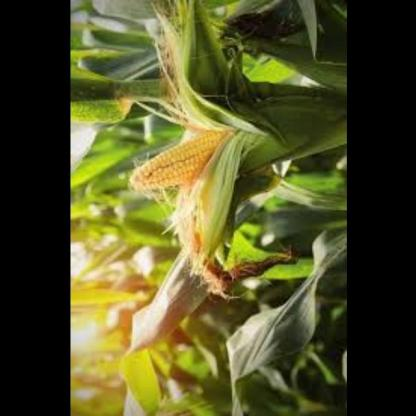corn: (120, 125, 256, 199)
